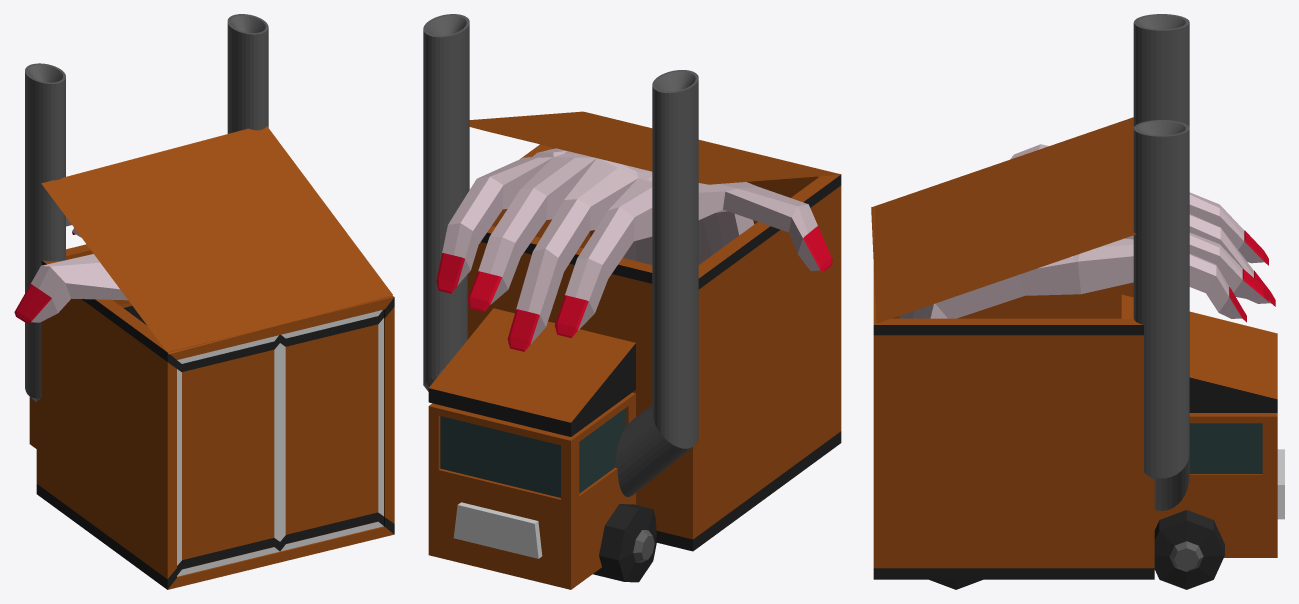
3 views of the same model, side by side, from view 1: azimuth 30°, elevation 25°; view 2: azimuth 150°, elevation 25°; view 3: azimuth 270°, elevation 25° (orthographic). The views are drawn at different scales.
Visible parts, largest first — view 1: VanTheHand; view 2: VanTheHand; view 3: VanTheHand.
Boxes of the visible parts, <box> form: VanTheHand: <box>14,14,394,589</box>; VanTheHand: <box>423,14,841,589</box>; VanTheHand: <box>871,14,1284,589</box>.
Bounding box in the file's own units: 230 × 324 × 257.
